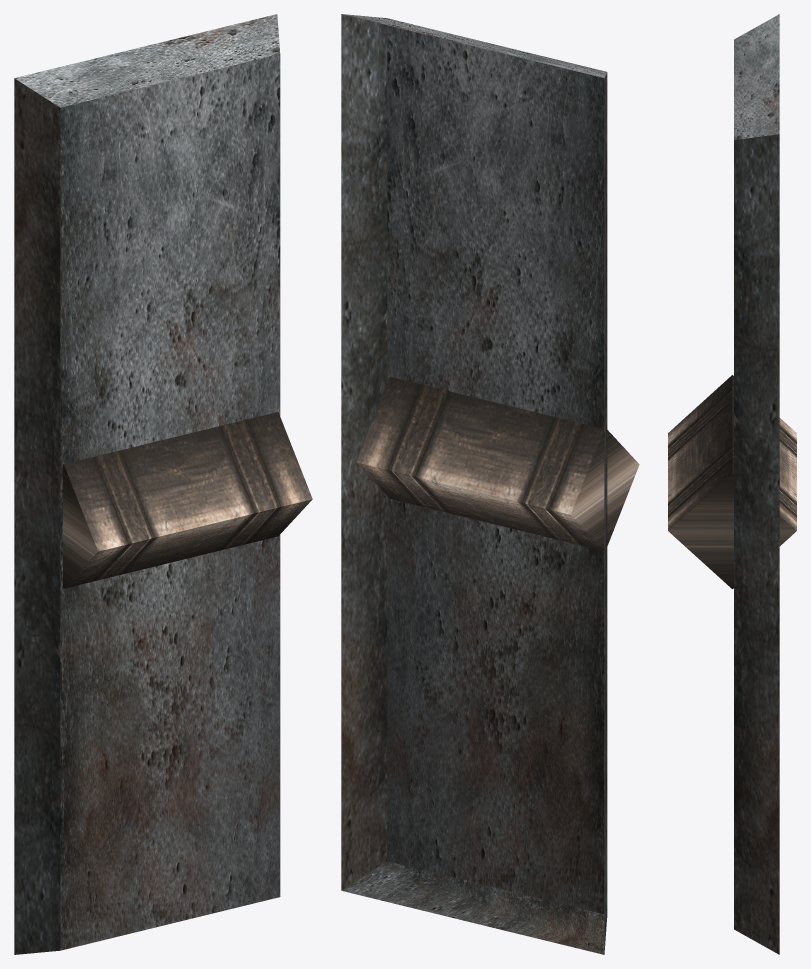
File: mm9_deco_switch02.glb
The picture shows the model from 3 angles, left to right: view 1: azimuth 30°, elevation 25°; view 2: azimuth 150°, elevation 25°; view 3: azimuth 270°, elevation 25°; orthographic projection. The views are drawn at different scales.
Visible parts, largest first — view 1: Switch02; view 2: Switch02; view 3: Switch02.
Boxes of the visible parts, <box> form: Switch02: <box>14,14,312,954</box>; Switch02: <box>341,14,639,954</box>; Switch02: <box>668,14,796,954</box>.
Size of the model in its own units: 0.2386 by 0.7595 by 0.1079.
2 materials, 2 textured.
